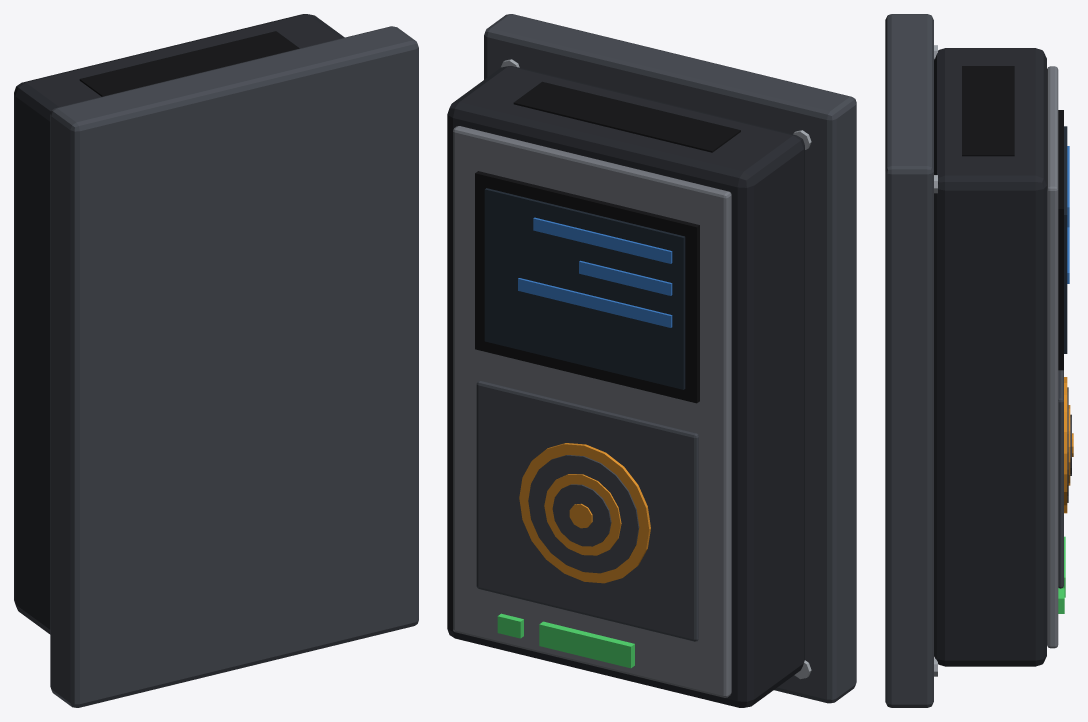
File: id_reader_ok.obj
The picture shows the model from 3 angles, left to right: view 1: azimuth 30°, elevation 25°; view 2: azimuth 150°, elevation 25°; view 3: azimuth 270°, elevation 25°; orthographic projection. The views are drawn at different scales.
Parts seen in each view (by area): view 1: id_reader_ok; view 2: id_reader_ok; view 3: id_reader_ok.
Boxes of the visible parts, left/top/right/bottom form: id_reader_ok: left=14, top=14, right=418, bottom=707; id_reader_ok: left=447, top=14, right=856, bottom=707; id_reader_ok: left=885, top=14, right=1073, bottom=707.
Size of the model in its own units: 0.46 by 0.74 by 0.233.
